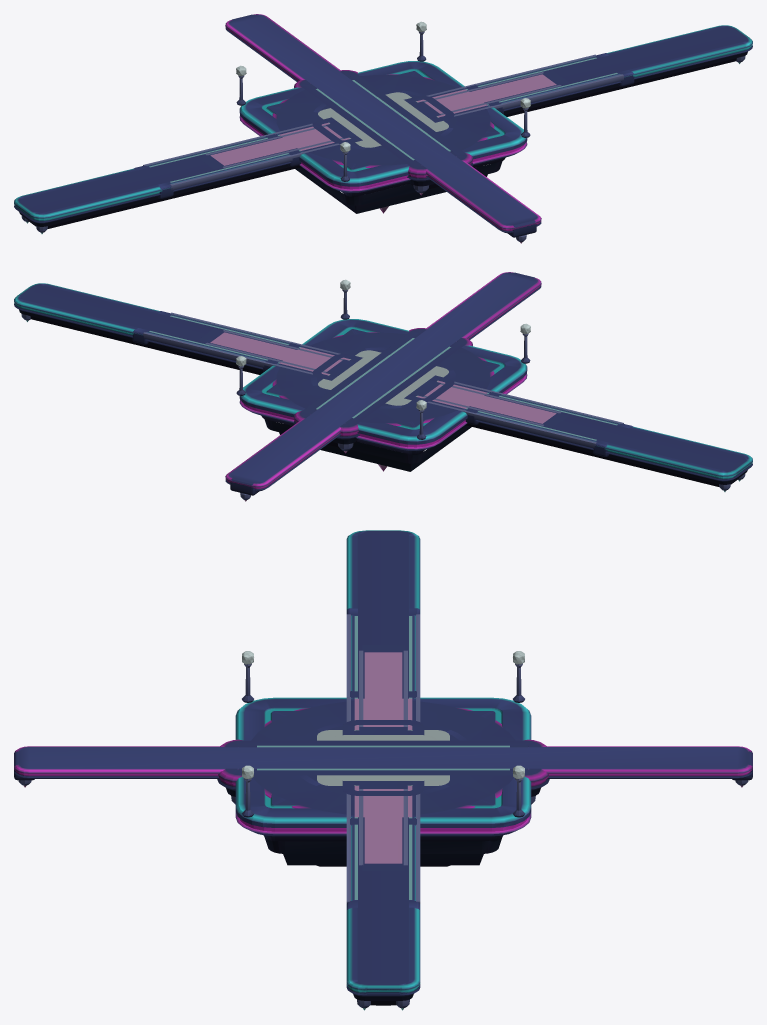
File: core-2-BMHbRMy2.glb
The picture shows the model from 3 angles, top to bottom: view 1: azimuth 30°, elevation 25°; view 2: azimuth 150°, elevation 25°; view 3: azimuth 270°, elevation 25°; orthographic projection. The views are drawn at different scales.
Visible parts, largest first — view 1: block_2.5x2x30_grate#0, pad_12x2x12#1, block_44x2x3_grate#0, block_44x2x2.5_grate#1, disc_12x1.5#0, beam_22x1.5x2#1, beam_29x1.5x3#0, block_4x2x13.5#1, block_8x2x4#0, beam_13.100000000000364x1.5x3#1, fader_5x1.5x5#0, beam_3x1.5x12#1 (+2 smaller); view 2: block_2.5x2x30_grate#0, pad_12x2x12#1, block_44x2x3_grate#0, block_44x2x2.5_grate#1, disc_12x1.5#0, beam_22x1.5x2#1, beam_29x1.5x3#0, block_4x2x13.5#1, block_8x2x4#0, beam_13.100000000000364x1.5x3#1, fader_5x1.5x5#0, beam_3x1.5x12#1 (+2 smaller); view 3: block_2.5x2x30_grate#0, pad_12x2x12#1, block_44x2x2.5_grate#1, disc_12x1.5#0, beam_22x1.5x2#1, block_44x2x3_grate#0, block_4x2x13.5#1, beam_29x1.5x3#0, block_8x2x4#0, beam_3x1.5x12#1, beam_13.100000000000364x1.5x3#1, fader_5x1.5x5#0 (+1 smaller).
Part boxes in pixels (x1=…): block_2.5x2x30_grate#0: x1=225, y1=14, x2=541, y2=233; pad_12x2x12#1: x1=236, y1=21, x2=530, y2=213; block_44x2x3_grate#0: x1=14, y1=25, x2=752, y2=233; block_44x2x2.5_grate#1: x1=15, y1=27, x2=749, y2=219; disc_12x1.5#0: x1=272, y1=74, x2=494, y2=213; beam_22x1.5x2#1: x1=197, y1=70, x2=568, y2=169; beam_29x1.5x3#0: x1=134, y1=53, x2=634, y2=198; block_4x2x13.5#1: x1=294, y1=70, x2=472, y2=195; block_8x2x4#0: x1=312, y1=96, x2=454, y2=143; beam_13.100000000000364x1.5x3#1: x1=265, y1=85, x2=503, y2=167; fader_5x1.5x5#0: x1=331, y1=98, x2=435, y2=142; beam_3x1.5x12#1: x1=309, y1=75, x2=457, y2=165; block_2.5x2x30_grate#0: x1=225, y1=272, x2=541, y2=491; pad_12x2x12#1: x1=236, y1=279, x2=530, y2=471; block_44x2x3_grate#0: x1=14, y1=283, x2=752, y2=491; block_44x2x2.5_grate#1: x1=17, y1=285, x2=751, y2=477; disc_12x1.5#0: x1=272, y1=332, x2=494, y2=471; beam_22x1.5x2#1: x1=198, y1=328, x2=569, y2=427; beam_29x1.5x3#0: x1=132, y1=311, x2=632, y2=456; block_4x2x13.5#1: x1=294, y1=328, x2=472, y2=453; block_8x2x4#0: x1=312, y1=354, x2=454, y2=401; beam_13.100000000000364x1.5x3#1: x1=263, y1=343, x2=501, y2=425; fader_5x1.5x5#0: x1=331, y1=356, x2=435, y2=400; beam_3x1.5x12#1: x1=309, y1=333, x2=457, y2=423; block_2.5x2x30_grate#0: x1=14, y1=746, x2=752, y2=778; pad_12x2x12#1: x1=235, y1=651, x2=531, y2=866; block_44x2x2.5_grate#1: x1=357, y1=530, x2=409, y2=994; disc_12x1.5#0: x1=251, y1=700, x2=515, y2=815; beam_22x1.5x2#1: x1=359, y1=645, x2=407, y2=870; block_44x2x3_grate#0: x1=346, y1=531, x2=420, y2=1010; block_4x2x13.5#1: x1=217, y1=739, x2=549, y2=804; beam_29x1.5x3#0: x1=346, y1=608, x2=420, y2=909; block_8x2x4#0: x1=342, y1=720, x2=424, y2=795; beam_3x1.5x12#1: x1=238, y1=745, x2=528, y2=770; beam_13.100000000000364x1.5x3#1: x1=346, y1=691, x2=420, y2=825; fader_5x1.5x5#0: x1=330, y1=735, x2=436, y2=780.
Bounding box in the file's own units: 44 × 7.63 × 30.
